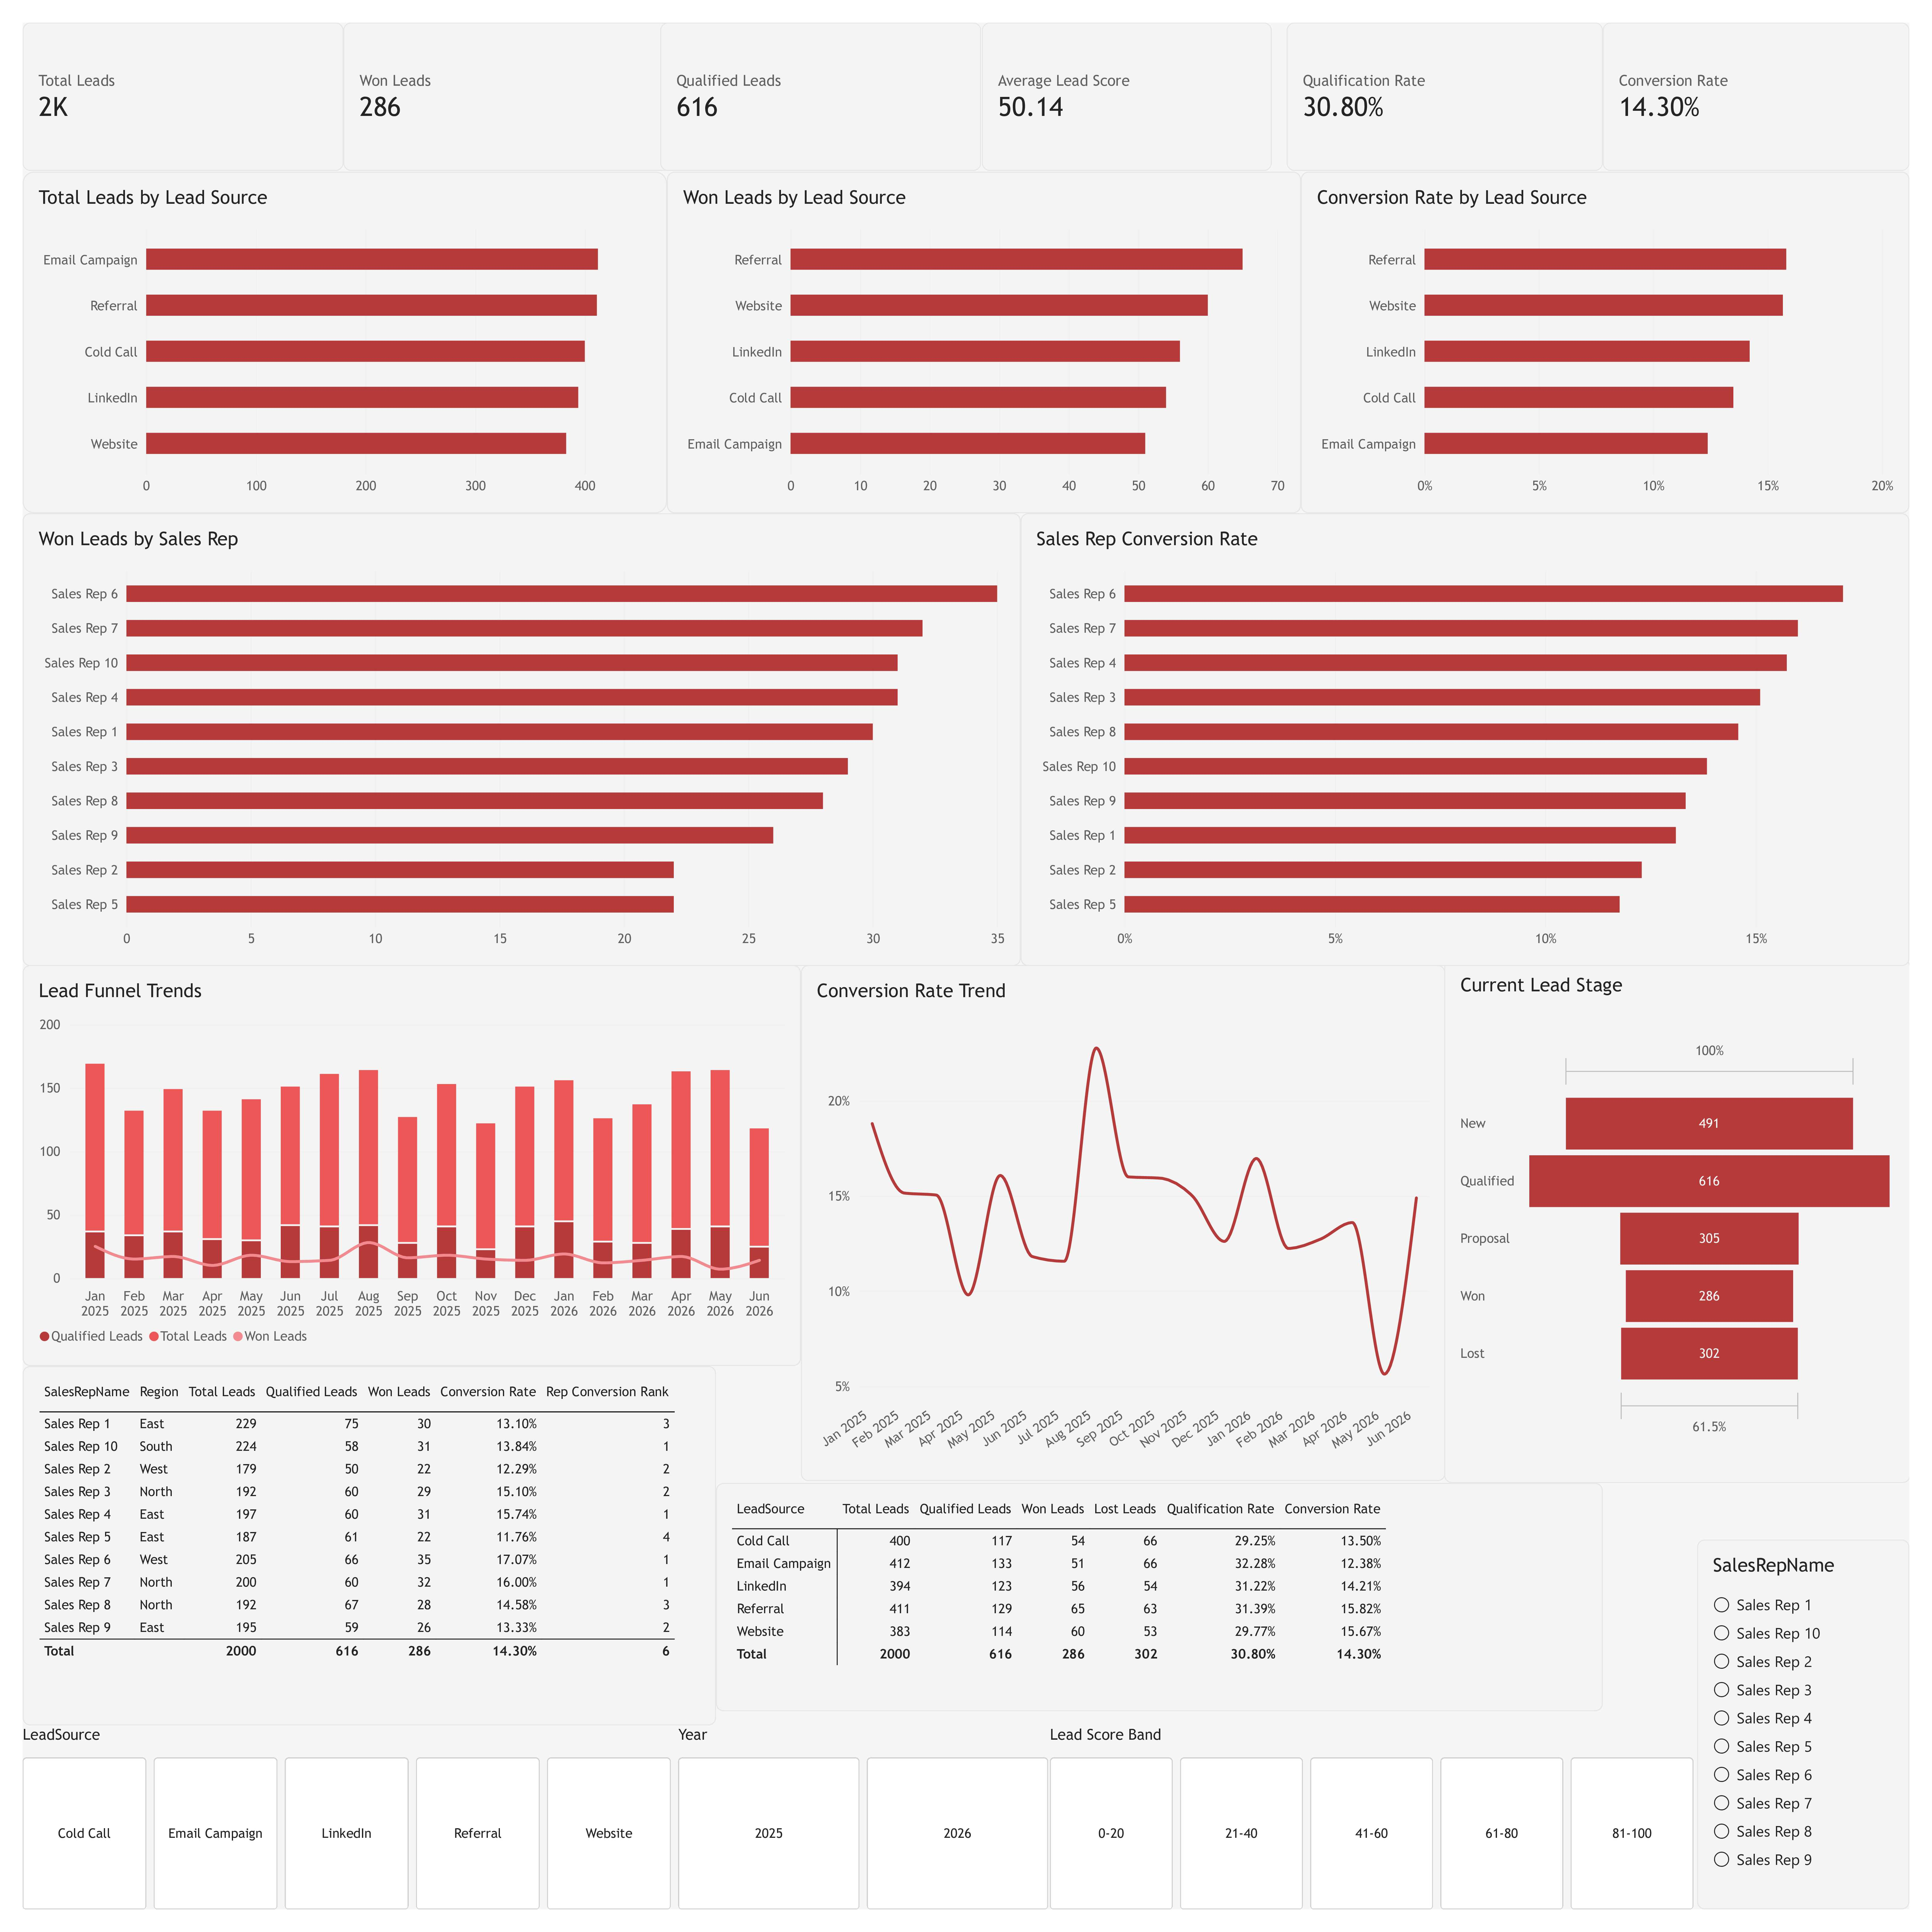

The dashboard page shown, as its layout file describes it:
{"tool":"powerbi","page":{"name":"Page 1","canvas":[2000,2000],"ordinal":0},"visuals":[{"type":"barChart","title":"Total Leads by Lead Source","fields":{"Category":["Fact_Leads.LeadSource"],"Y":["Fact_Leads.Total Leads"]},"box":[0,157.5,682.5,362.5],"z":0},{"type":"barChart","title":"Won Leads by Lead Source","fields":{"Y":["Fact_Leads.Won Leads"],"Category":["Fact_Leads.LeadSource"]},"box":[682.5,157.5,672.5,362.5],"z":1000},{"type":"barChart","title":"Conversion Rate by Lead Source","fields":{"Y":["Fact_Leads.Conversion Rate"],"Category":["Fact_Leads.LeadSource"]},"box":[1355,157.5,645,362.5],"z":2000},{"type":"funnel","title":"Current Lead Stage","fields":{"Y":["Funnel Stages.Funnel Value"],"Category":["Funnel Stages.Stage"]},"box":[1507.5,992.6,493.2,555.2],"z":3000},{"type":"lineStackedColumnComboChart","title":"Lead Funnel Trends","fields":{"Category":["Dim_Calendar.Month Year"],"Y":["Fact_Leads.Qualified Leads","Fact_Leads.Total Leads"],"Y2":["Fact_Leads.Won Leads"]},"box":[0,998.8,825.1,424.9],"z":4000},{"type":"barChart","title":"Won Leads by Sales Rep","fields":{"Category":["Dim_SalesReps.SalesRepName"],"Y":["Fact_Leads.Won Leads"]},"box":[0,520,1057.5,480],"z":5000},{"type":"barChart","title":"Sales Rep Conversion Rate ","fields":{"Category":["Dim_SalesReps.SalesRepName"],"Y":["Fact_Leads.Rep Conversion Rate"]},"box":[1057.5,520,942.5,480],"z":6000},{"type":"pivotTable","fields":{"Rows":["Fact_Leads.LeadSource"],"Values":["Fact_Leads.Total Leads","Fact_Leads.Qualified Leads","Fact_Leads.Won Leads","Fact_Leads.Lost Leads","Fact_Leads.Qualification Rate","Fact_Leads.Conversion Rate"]},"box":[735.1,1547.8,939.8,241.9],"z":7000},{"type":"advancedSlicerVisual","fields":{"Values":["Dim_Calendar.Year"]},"box":[694.8,1805.2,393.9,195.4],"z":8000},{"type":"lineChart","title":"Conversion Rate Trend","fields":{"Y":["Fact_Leads.Conversion Rate"],"Category":["Dim_Calendar.Month Year"]},"box":[825.1,998.8,682.5,547.5],"z":9000},{"type":"tableEx","fields":{"Values":["Dim_SalesReps.SalesRepName","Dim_SalesReps.Region","Fact_Leads.Total Leads","Fact_Leads.Qualified Leads","Fact_Leads.Won Leads","Fact_Leads.Conversion Rate","Fact_Leads.Rep Conversion Rank"]},"box":[0,1423.7,735.1,381.5],"z":10000},{"type":"cardVisual","fields":{"Data":["Fact_Leads.Won Leads"]},"box":[340,0,352.5,157.5],"z":11000},{"type":"cardVisual","fields":{"Data":["Fact_Leads.Conversion Rate"]},"box":[1675,0,325,157.5],"z":12000},{"type":"cardVisual","fields":{"Data":["Fact_Leads.Qualified Leads"]},"box":[676.2,0,340,157.5],"z":13000},{"type":"cardVisual","fields":{"Data":["Fact_Leads.Qualification Rate"]},"box":[1340,0,335,157.5],"z":14000},{"type":"advancedSlicerVisual","fields":{"Values":["Fact_Leads.LeadSource"]},"box":[0,1805.2,691.7,195.4],"z":15000},{"type":"advancedSlicerVisual","fields":{"Values":["Fact_Leads.Lead Score Band"]},"box":[1088.7,1805.2,685.5,195.4],"z":16000},{"type":"listSlicer","fields":{"Values":["Dim_SalesReps.SalesRepName"]},"box":[1775,1607.5,225,392.5],"z":17000},{"type":"cardVisual","fields":{"Data":["Fact_Leads.Average Lead Score"]},"box":[1017.4,0,307.5,157.5],"z":18000},{"type":"cardVisual","fields":{"Data":["Fact_Leads.Total Leads"]},"box":[0,0,340,157.5],"z":19000}]}

Visuals, with their boxes in screenshot pixels (x1, y1, x2, y2), scaled from the page's 2000x2000 canvas onto the 1932x1932 screenshot:
"Total Leads by Lead Source" barChart: rect(0, 152, 659, 502)
"Won Leads by Lead Source" barChart: rect(659, 152, 1309, 502)
"Conversion Rate by Lead Source" barChart: rect(1309, 152, 1932, 502)
"Current Lead Stage" funnel: rect(1456, 959, 1932, 1495)
"Lead Funnel Trends" lineStackedColumnComboChart: rect(0, 965, 797, 1375)
"Won Leads by Sales Rep" barChart: rect(0, 502, 1022, 966)
"Sales Rep Conversion Rate " barChart: rect(1022, 502, 1932, 966)
pivotTable - Fact_Leads.LeadSource x Fact_Leads.Total Leads: rect(710, 1495, 1618, 1729)
advancedSlicerVisual - Dim_Calendar.Year: rect(671, 1744, 1052, 1932)
"Conversion Rate Trend" lineChart: rect(797, 965, 1456, 1494)
tableEx - Dim_SalesReps.SalesRepName x Dim_SalesReps.Region: rect(0, 1375, 710, 1744)
cardVisual - Fact_Leads.Won Leads: rect(328, 0, 669, 152)
cardVisual - Fact_Leads.Conversion Rate: rect(1618, 0, 1932, 152)
cardVisual - Fact_Leads.Qualified Leads: rect(653, 0, 982, 152)
cardVisual - Fact_Leads.Qualification Rate: rect(1294, 0, 1618, 152)
advancedSlicerVisual - Fact_Leads.LeadSource: rect(0, 1744, 668, 1932)
advancedSlicerVisual - Fact_Leads.Lead Score Band: rect(1052, 1744, 1714, 1932)
listSlicer - Dim_SalesReps.SalesRepName: rect(1715, 1553, 1932, 1932)
cardVisual - Fact_Leads.Average Lead Score: rect(983, 0, 1280, 152)
cardVisual - Fact_Leads.Total Leads: rect(0, 0, 328, 152)
